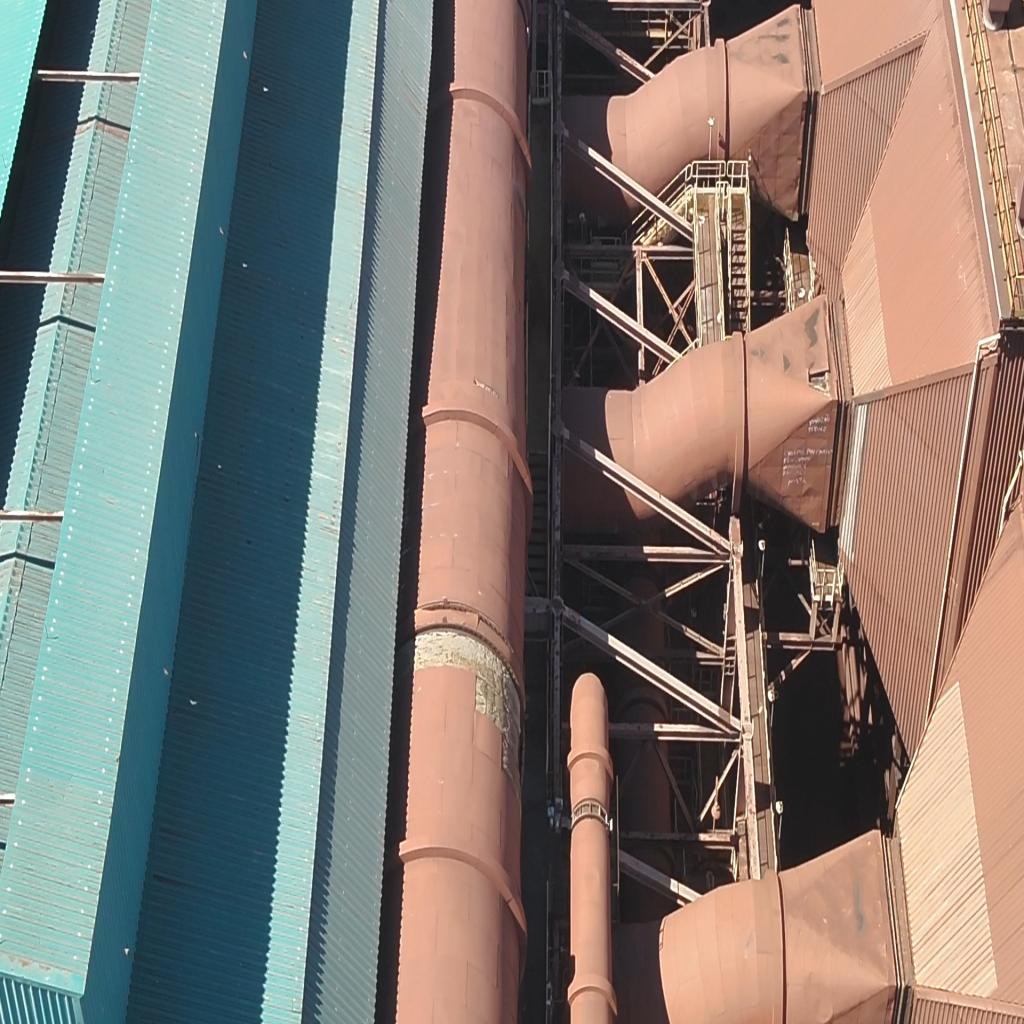Failures: (401, 616, 523, 781), (804, 363, 838, 403)
